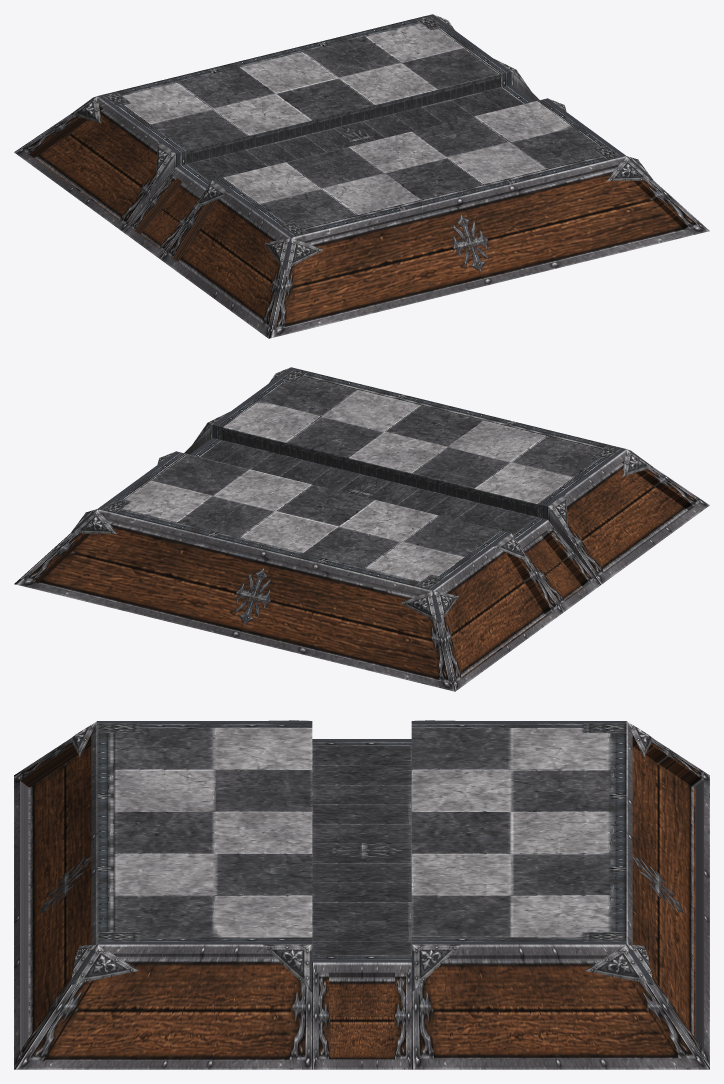
The model's file is Arena.glb.
The picture shows the model from 3 angles, top to bottom: view 1: azimuth 30°, elevation 25°; view 2: azimuth 150°, elevation 25°; view 3: azimuth 270°, elevation 25°; orthographic projection. The views are drawn at different scales.
Visible parts, largest first — view 1: Arena; view 2: Arena; view 3: Arena.
Boxes of the visible parts, bbox=[...] form: Arena: bbox=[14, 14, 709, 338]; Arena: bbox=[14, 367, 709, 691]; Arena: bbox=[14, 720, 709, 1069].
Bounding box in the file's own units: 2.5 × 0.3611 × 2.5.
1 material, 1 textured.
